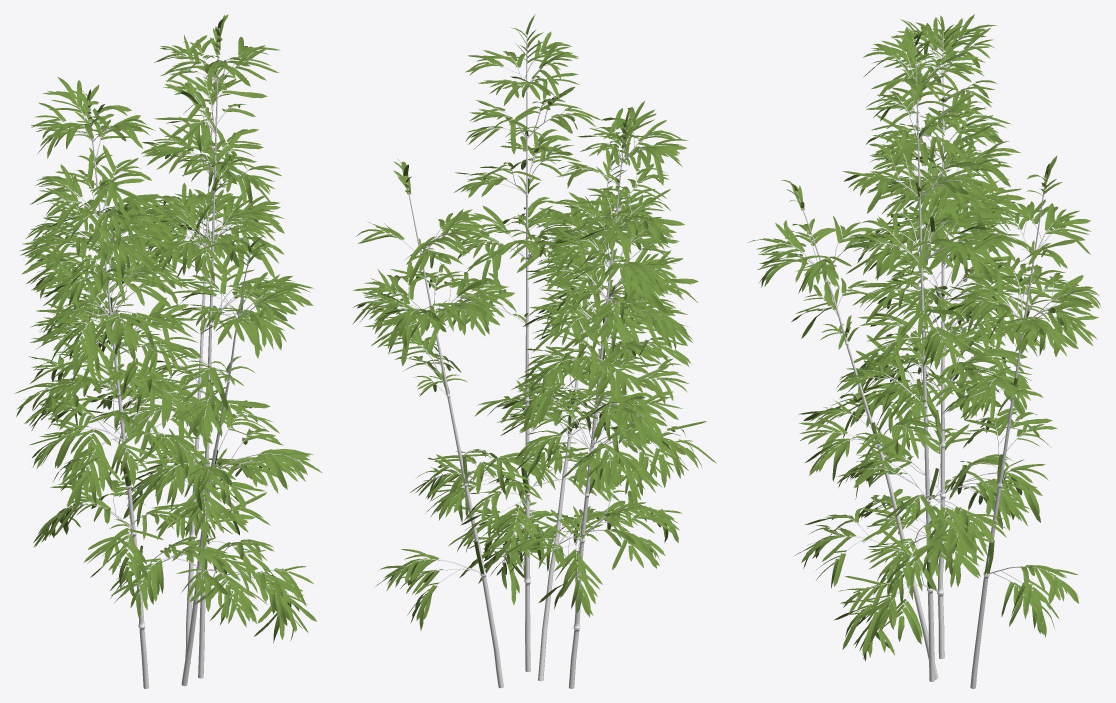
The model's file is bamboo.gltf.
3 renders of one model, left to right at view 1: azimuth 30°, elevation 25°; view 2: azimuth 150°, elevation 25°; view 3: azimuth 270°, elevation 25°, orthographic. The views are drawn at different scales.
Parts seen in each view (by area): view 1: kkviz bambusa boniopsis_01; view 2: kkviz bambusa boniopsis_01; view 3: kkviz bambusa boniopsis_01.
Part boxes in pixels (x1,y1,x2,y2): kkviz bambusa boniopsis_01: (14, 14, 321, 688); kkviz bambusa boniopsis_01: (352, 14, 716, 688); kkviz bambusa boniopsis_01: (748, 14, 1101, 688).
Size of the model in its own units: 0.4867 by 1.08 by 0.5182.
